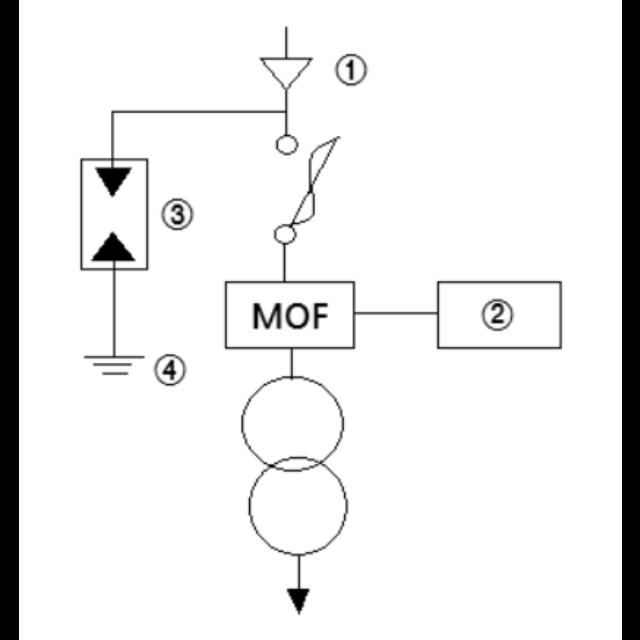CH: (261, 58, 311, 88)
GND: (80, 353, 146, 377)
LA: (80, 158, 146, 270)
MOF: (223, 282, 354, 348)
PF: (276, 135, 336, 245)
